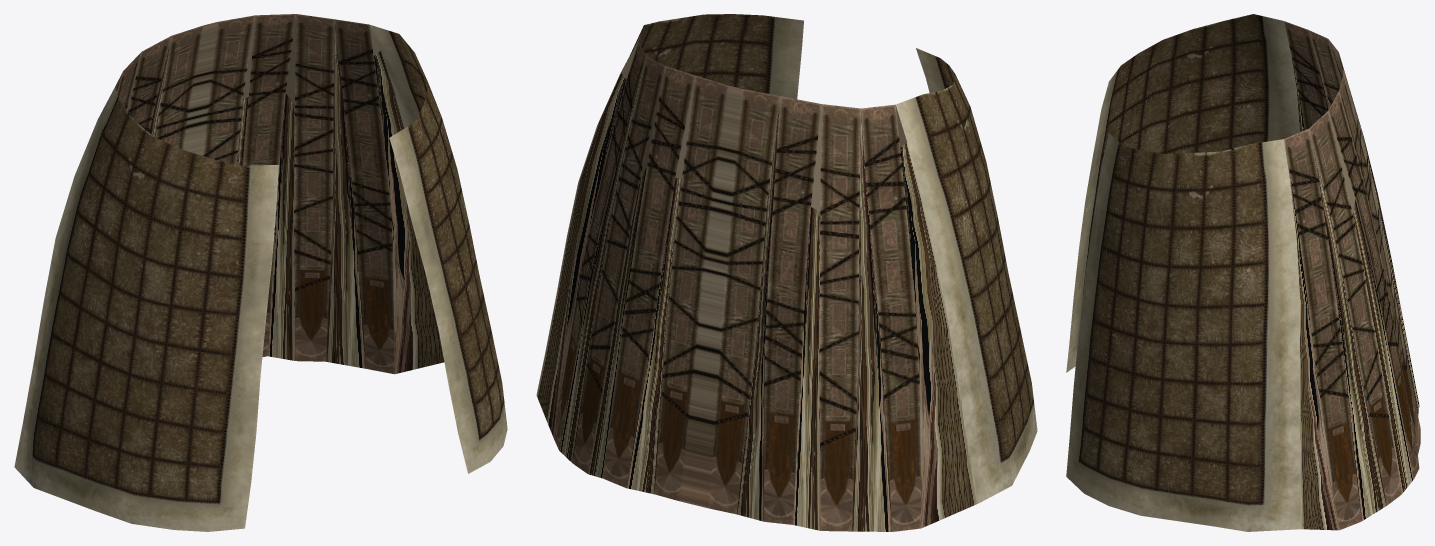
Rendered from clo_dunland_caerdh_chainmail_elite_d.fbx.
The picture shows the model from 3 angles, left to right: view 1: azimuth 30°, elevation 25°; view 2: azimuth 150°, elevation 25°; view 3: azimuth 270°, elevation 25°; orthographic projection. The views are drawn at different scales.
Parts seen in each view (by area): view 1: clo_dunland_caerdh_chainmail_elite_d; view 2: clo_dunland_caerdh_chainmail_elite_d; view 3: clo_dunland_caerdh_chainmail_elite_d.
Part boxes in pixels (box(x1,y1,x2,y2)): clo_dunland_caerdh_chainmail_elite_d: box(14, 14, 507, 531); clo_dunland_caerdh_chainmail_elite_d: box(536, 14, 1037, 531); clo_dunland_caerdh_chainmail_elite_d: box(1066, 14, 1420, 531).
Bounding box in the file's own units: 0.6066 × 0.4348 × 0.5071.
Materials: 1 (1 with a texture image).
